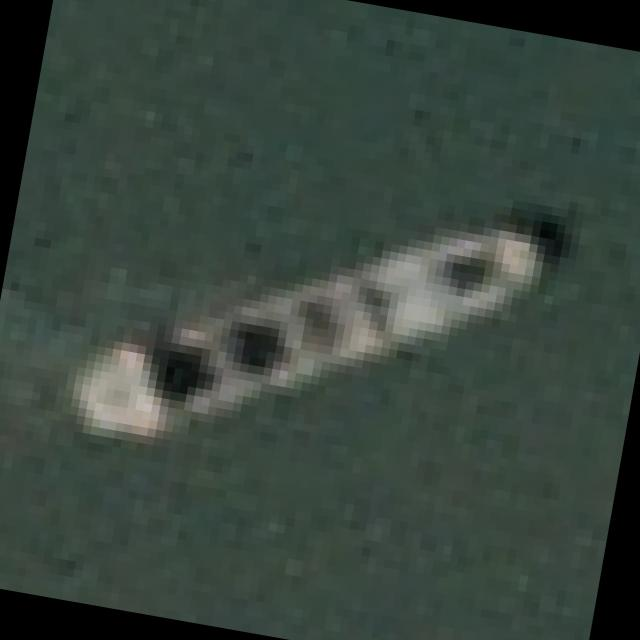ship: (45, 101, 587, 558)
